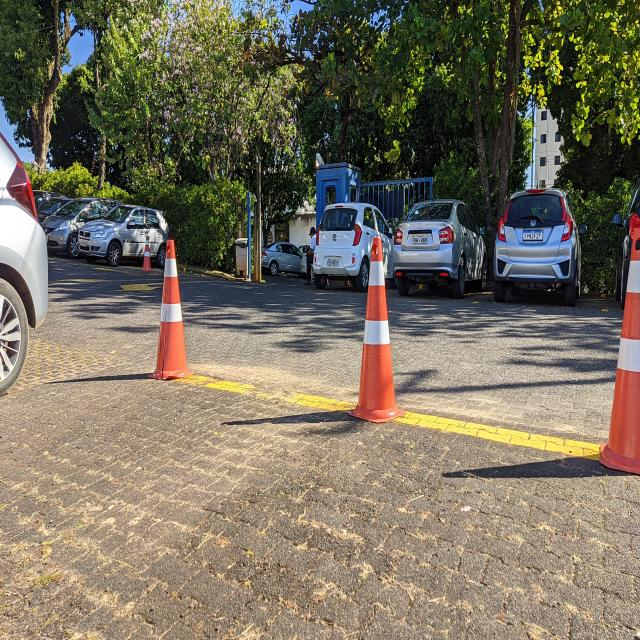cone: (346, 234, 407, 426), (597, 223, 640, 479), (146, 236, 193, 382), (141, 234, 153, 272)
